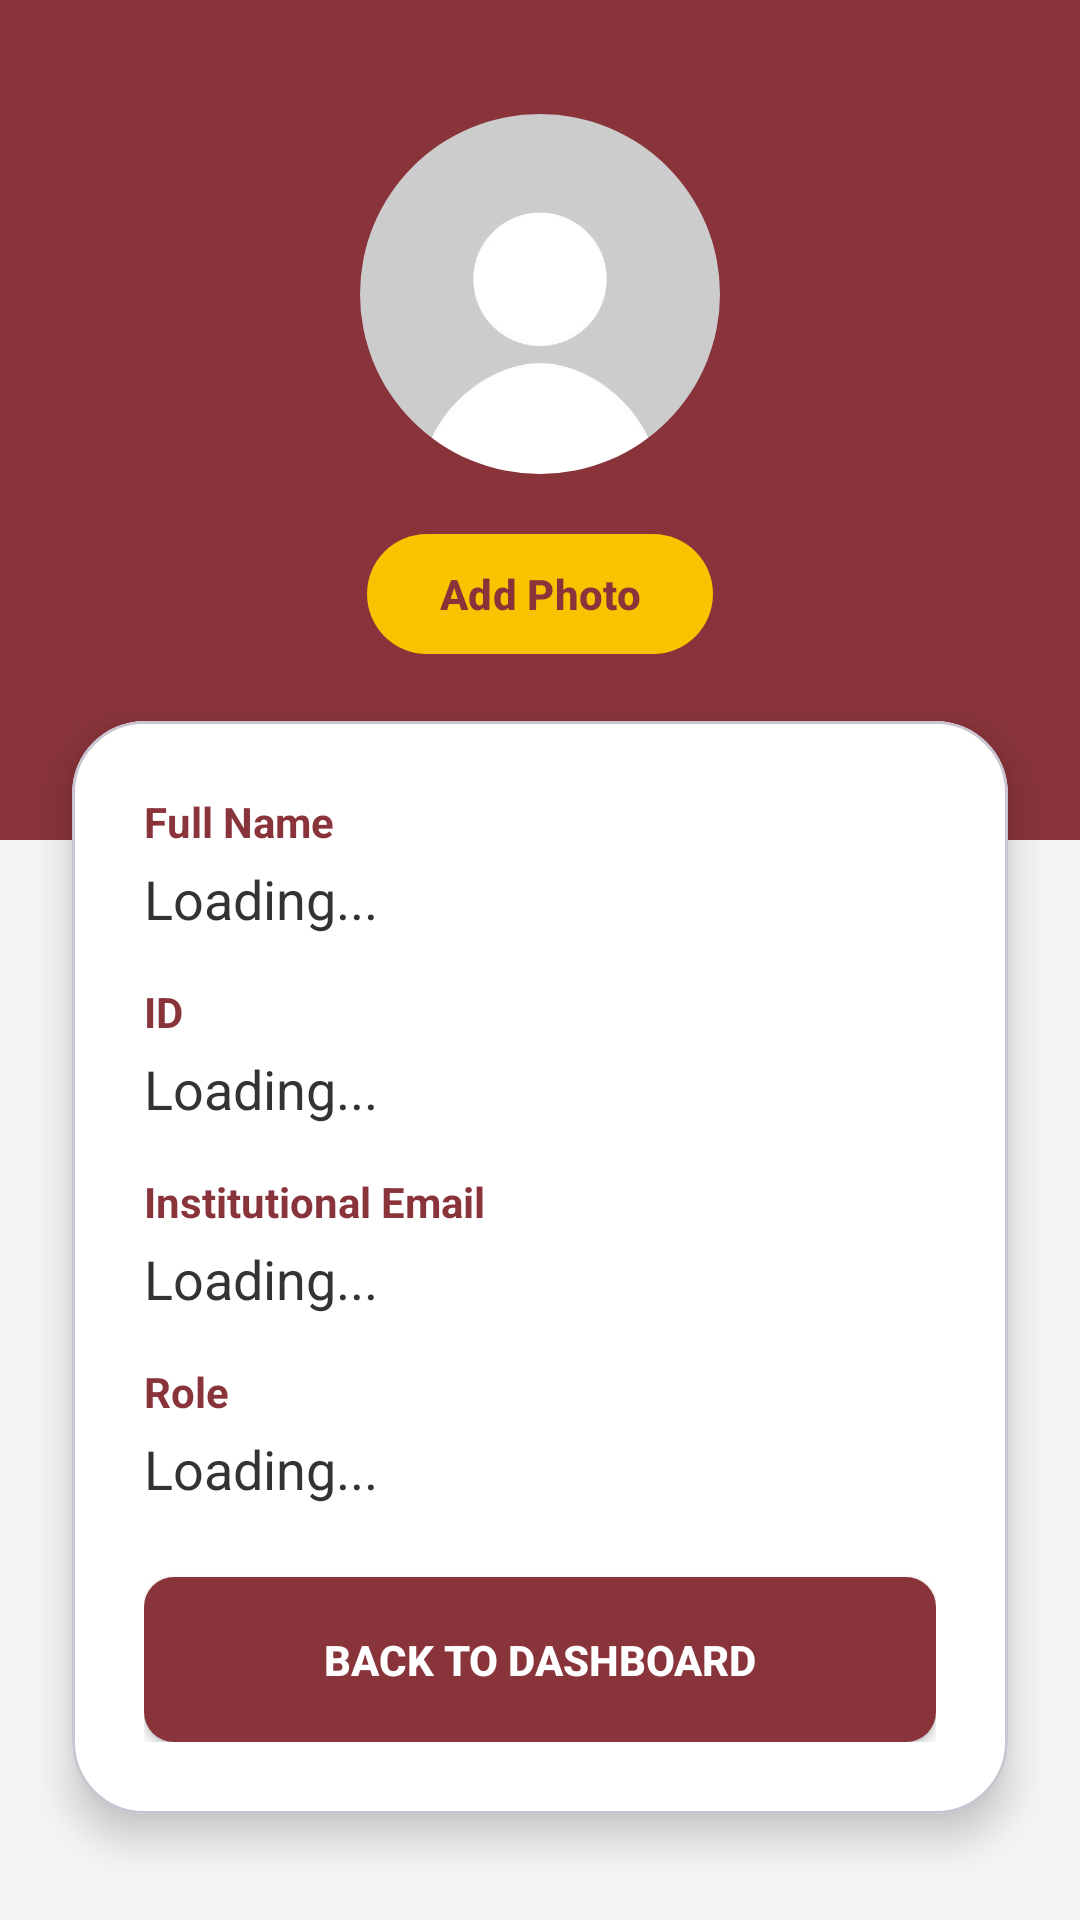

Locate icon controls on the screen. Image size 1080*1920, boxes as (x1, y1, x2, y2).
anonymous: (360, 114, 720, 474)
